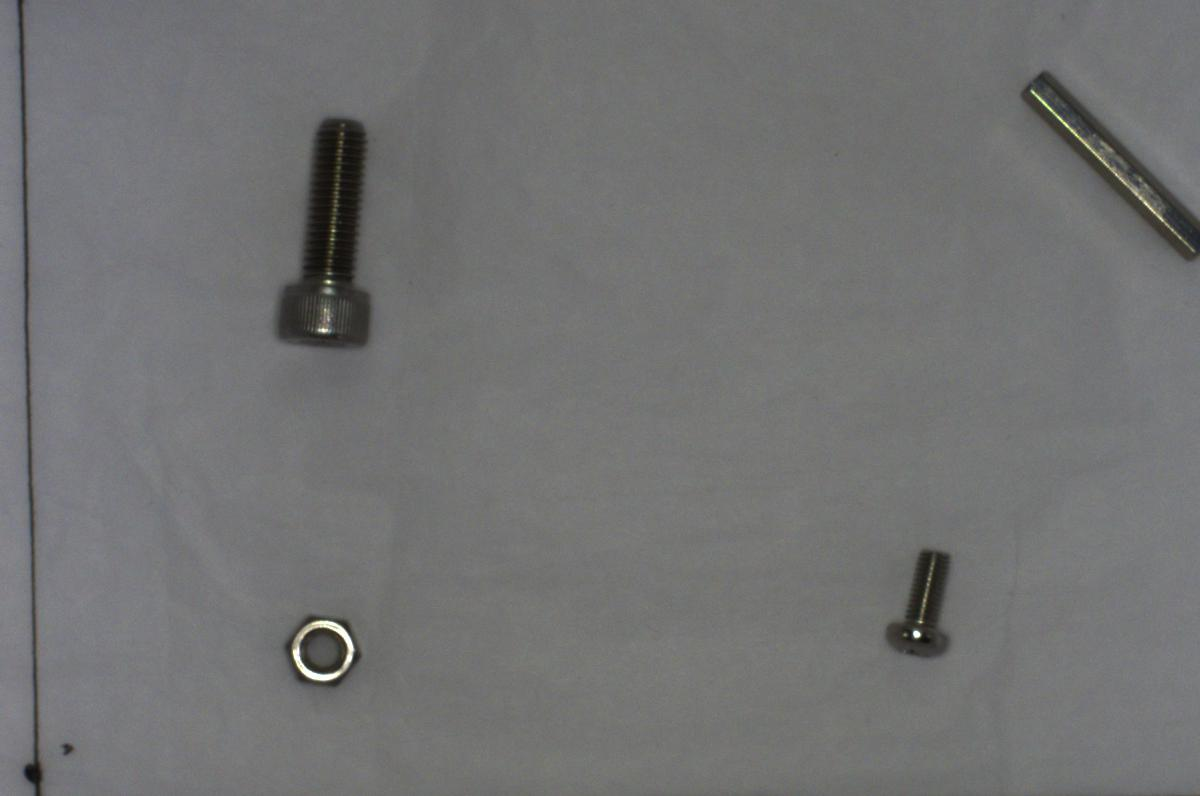Double hexagonal column: (1012, 59, 1199, 269)
Hexagon nut: (279, 605, 361, 689)
Hexagon screw: (268, 109, 380, 363)
Round head screw: (867, 534, 968, 669)
